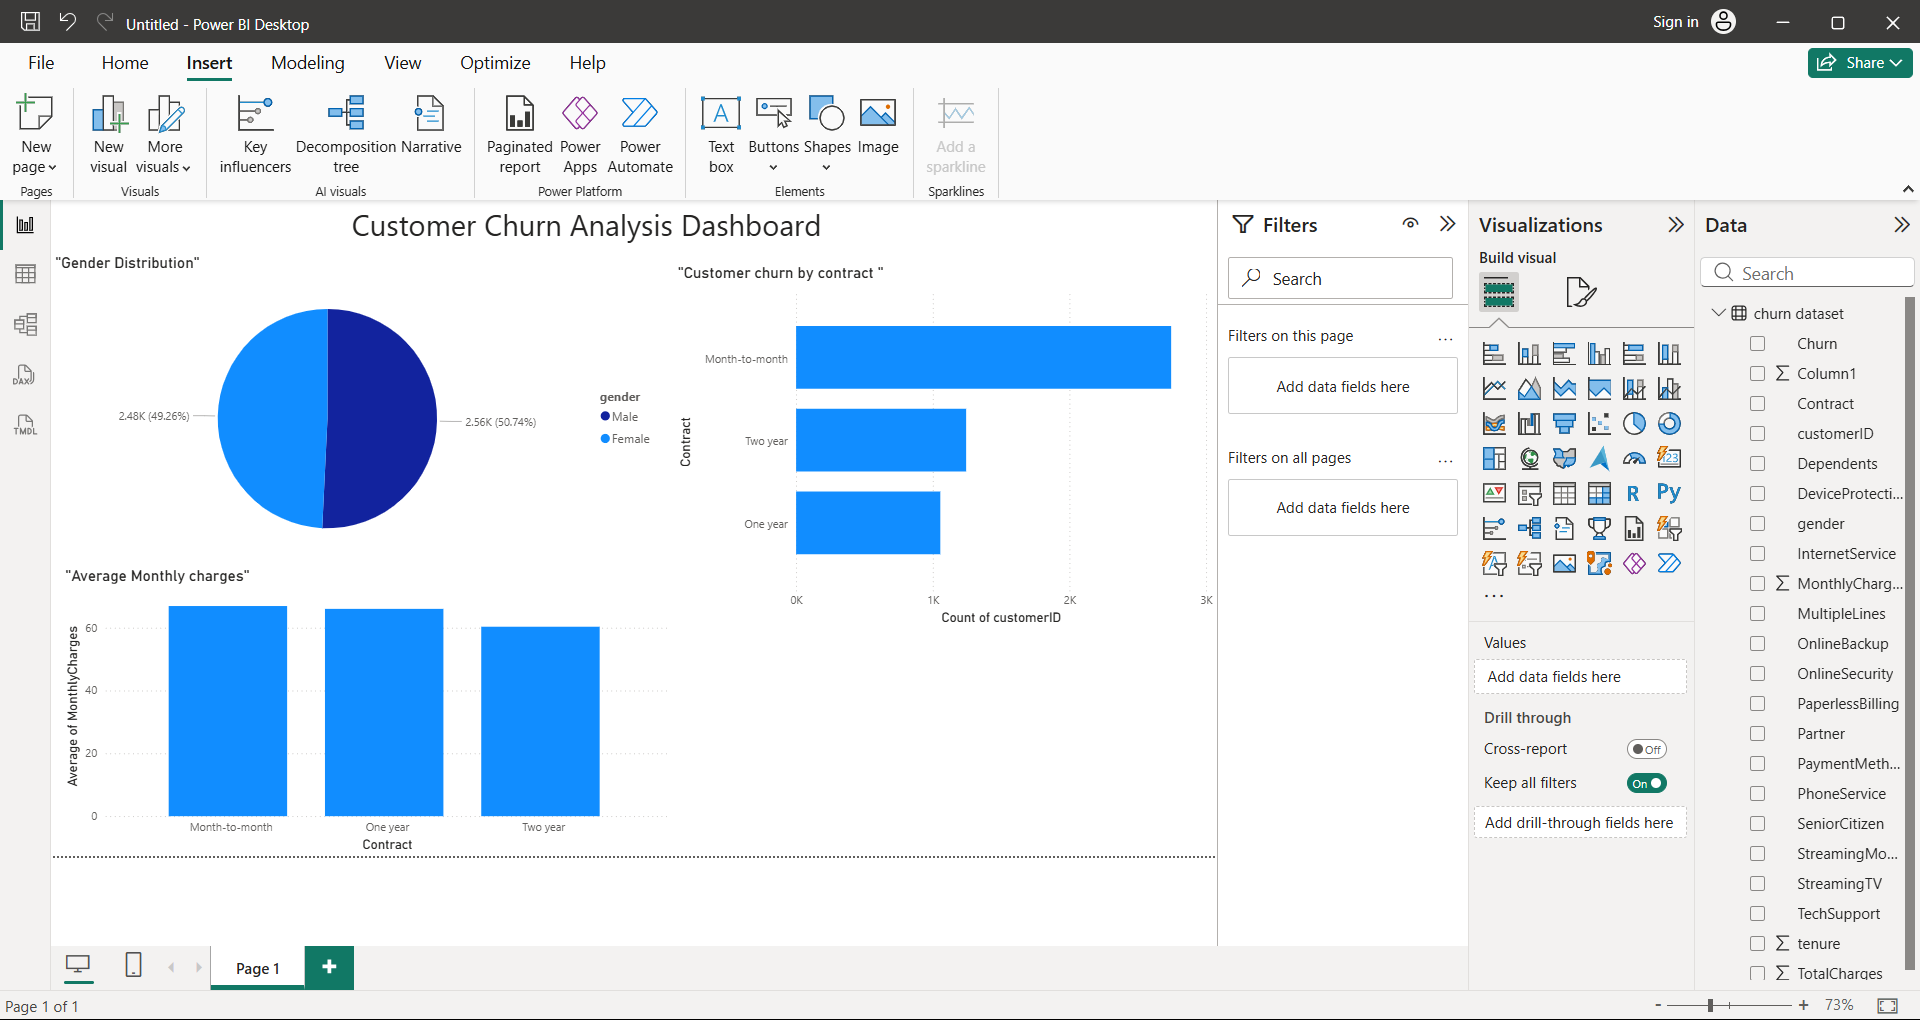

What the dashboard file says about the page in this screenshot:
{"tool":"powerbi","page":{"name":"Page 1","canvas":[1280,720],"ordinal":0},"visuals":[{"type":"pieChart","title":"\"Gender Distribution\"","fields":{"Category":["churn dataset.gender"],"Y":["CountNonNull(churn dataset.customerID)"]},"box":[0,59,672.4,343.1],"z":0},{"type":"clusteredBarChart","title":"\"Customer churn by contract \"","fields":{"Category":["churn dataset.Contract"],"Y":["CountNonNull(churn dataset.customerID)"]},"box":[683.4,70,596.9,402.1],"z":1},{"type":"clusteredColumnChart","title":"\"Average Monthly charges\"","fields":{"Category":["churn dataset.Contract"],"Y":["Avg(churn dataset.MonthlyCharges)"]},"box":[11,402.1,672.4,318.4],"z":2},{"type":"textbox","box":[325.2,0,587.3,70],"z":3}]}

Visuals, with their boxes on the page's 1280x720 design canvas (x1, y1, x2, y2). These are canvas units, not pixel positions in the 1920x1020 screenshot, which may show the page scaled, cropped or inside an application window:
""Gender Distribution"" pieChart: detection(0, 59, 672, 402)
""Customer churn by contract "" clusteredBarChart: detection(683, 70, 1280, 472)
""Average Monthly charges"" clusteredColumnChart: detection(11, 402, 683, 720)
textbox: detection(325, 0, 912, 70)
